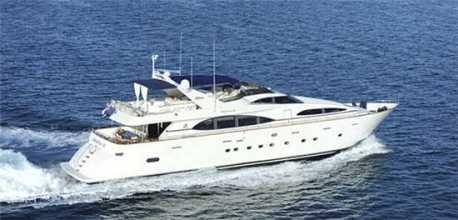yacht: (58, 57, 399, 185)
